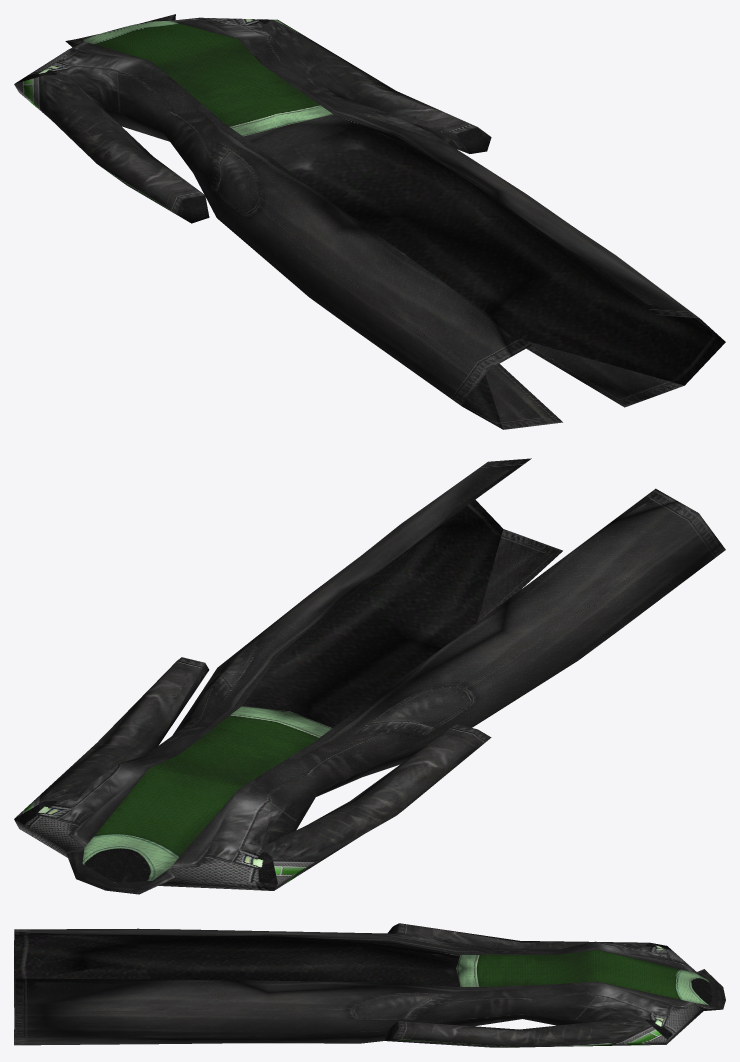
Rendered from f_Torso3.glb.
3 views of the same model, one above another, from view 1: azimuth 30°, elevation 25°; view 2: azimuth 150°, elevation 25°; view 3: azimuth 270°, elevation 25° (orthographic). The views are drawn at different scales.
Parts seen in each view (by area): view 1: Torso3; view 2: Torso3; view 3: Torso3.
Boxes of the visible parts, x1,y1,x2,y2 form: Torso3: (14,14,725,429); Torso3: (14,458,725,894); Torso3: (14,923,725,1047).
Bounding box in the file's own units: 28.44 × 7.33 × 76.48.
1 material, 1 textured.
